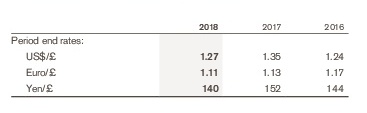table: (0, 0, 367, 113)
